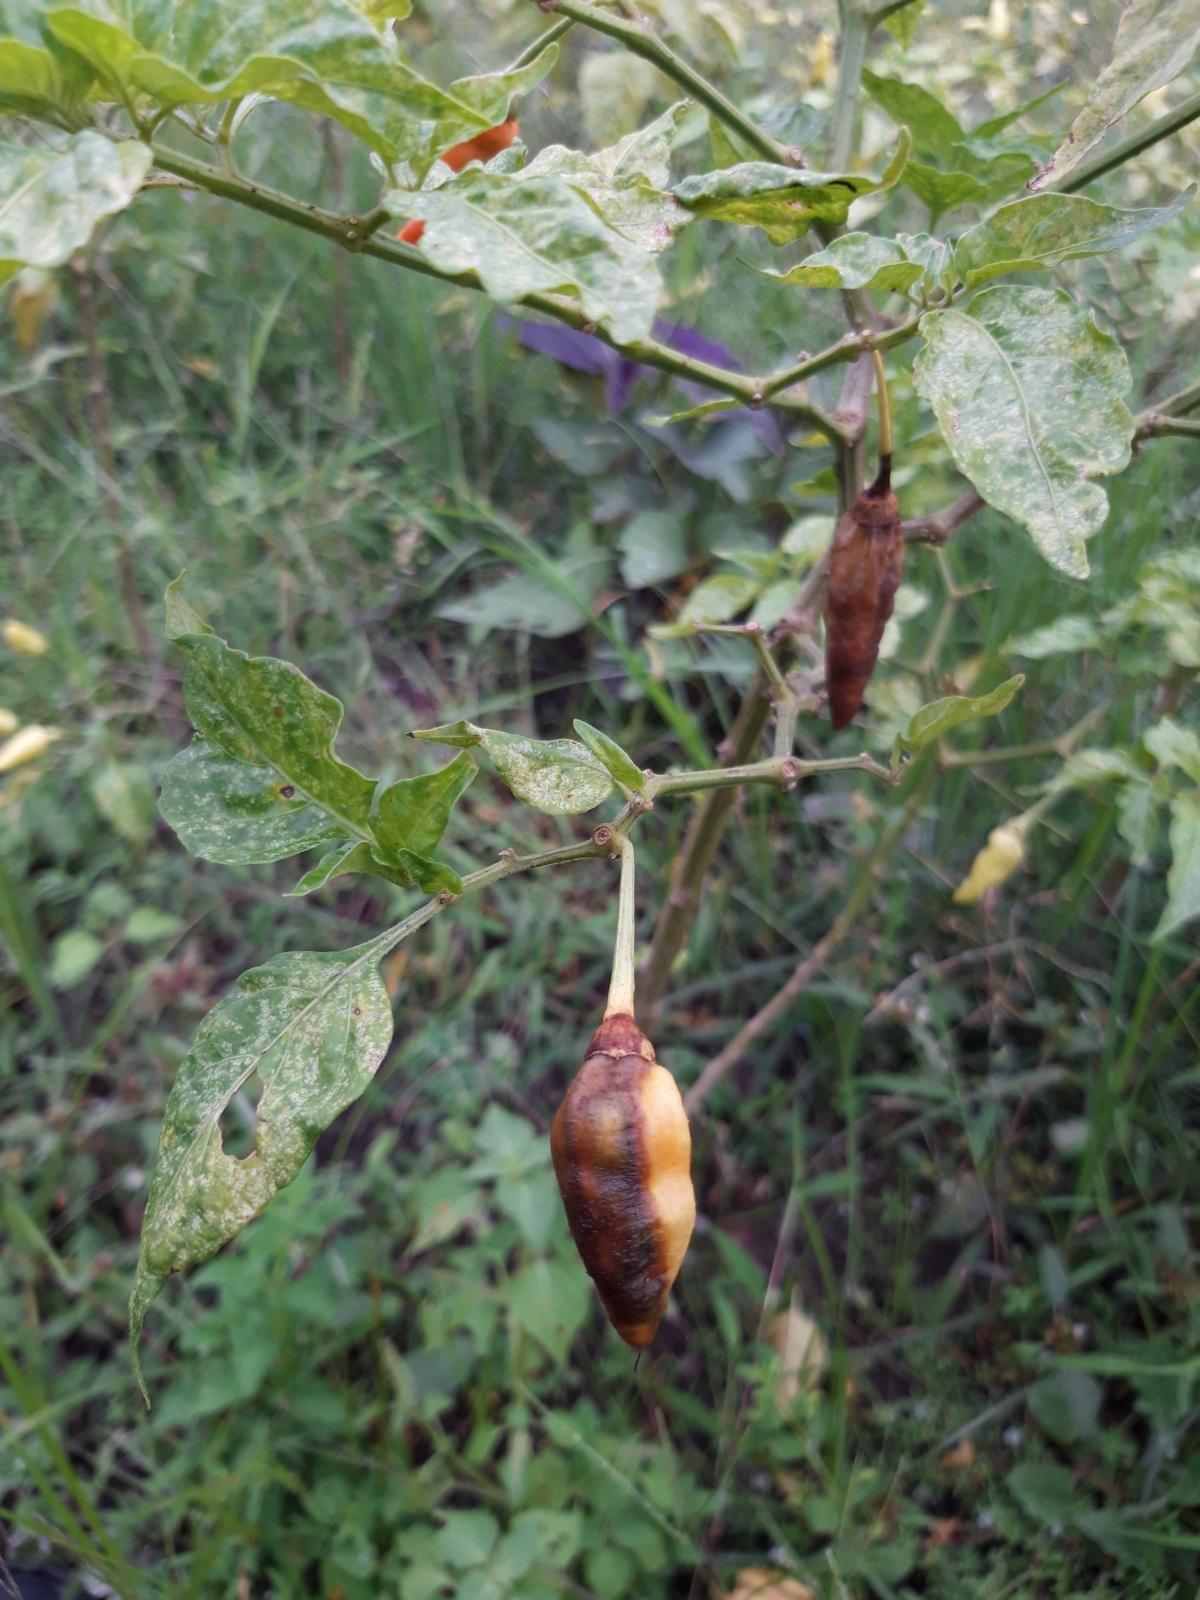cabai_normal: (950, 818, 1029, 907)
lalat_buah: (547, 1015, 697, 1353), (822, 490, 905, 731)
